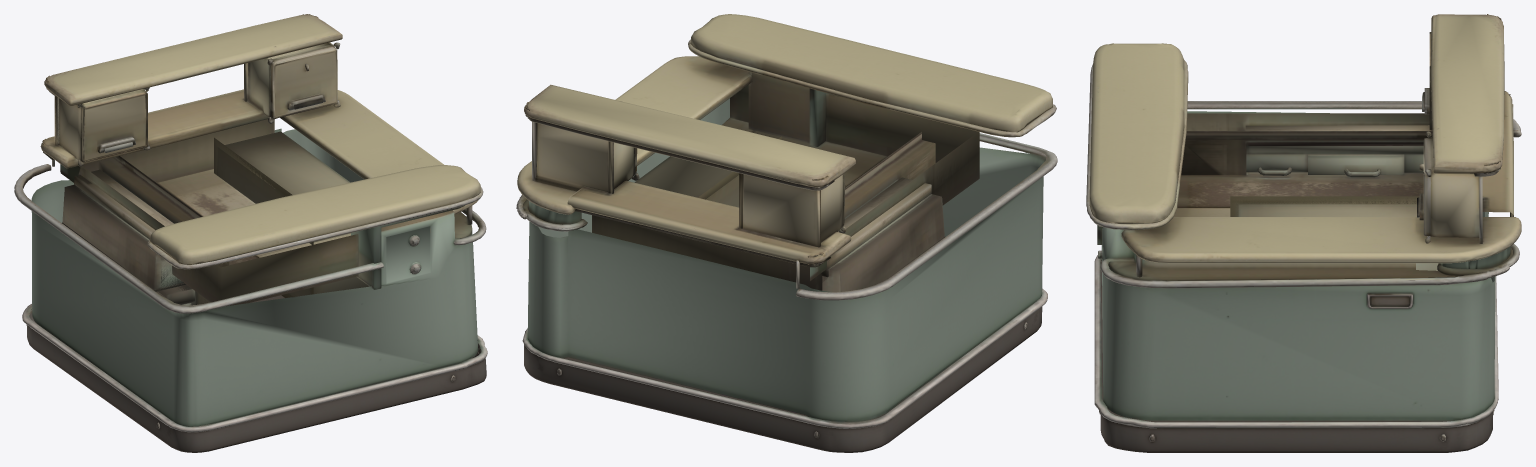
The picture shows the model from 3 angles, left to right: view 1: azimuth 30°, elevation 25°; view 2: azimuth 150°, elevation 25°; view 3: azimuth 270°, elevation 25°; orthographic projection. The views are drawn at different scales.
Parts seen in each view (by area): view 1: tripo_node_416a92aa-4e6d-473f-ac92-3751f3b0b4ae; view 2: tripo_node_416a92aa-4e6d-473f-ac92-3751f3b0b4ae; view 3: tripo_node_416a92aa-4e6d-473f-ac92-3751f3b0b4ae.
Part boxes in pixels (x1,y1,x2,y2): tripo_node_416a92aa-4e6d-473f-ac92-3751f3b0b4ae: (14,14,487,452); tripo_node_416a92aa-4e6d-473f-ac92-3751f3b0b4ae: (516,14,1057,452); tripo_node_416a92aa-4e6d-473f-ac92-3751f3b0b4ae: (1086,14,1521,452).
Size of the model in its own units: 0.998 by 0.7129 by 0.998.
1 material, 1 textured.
